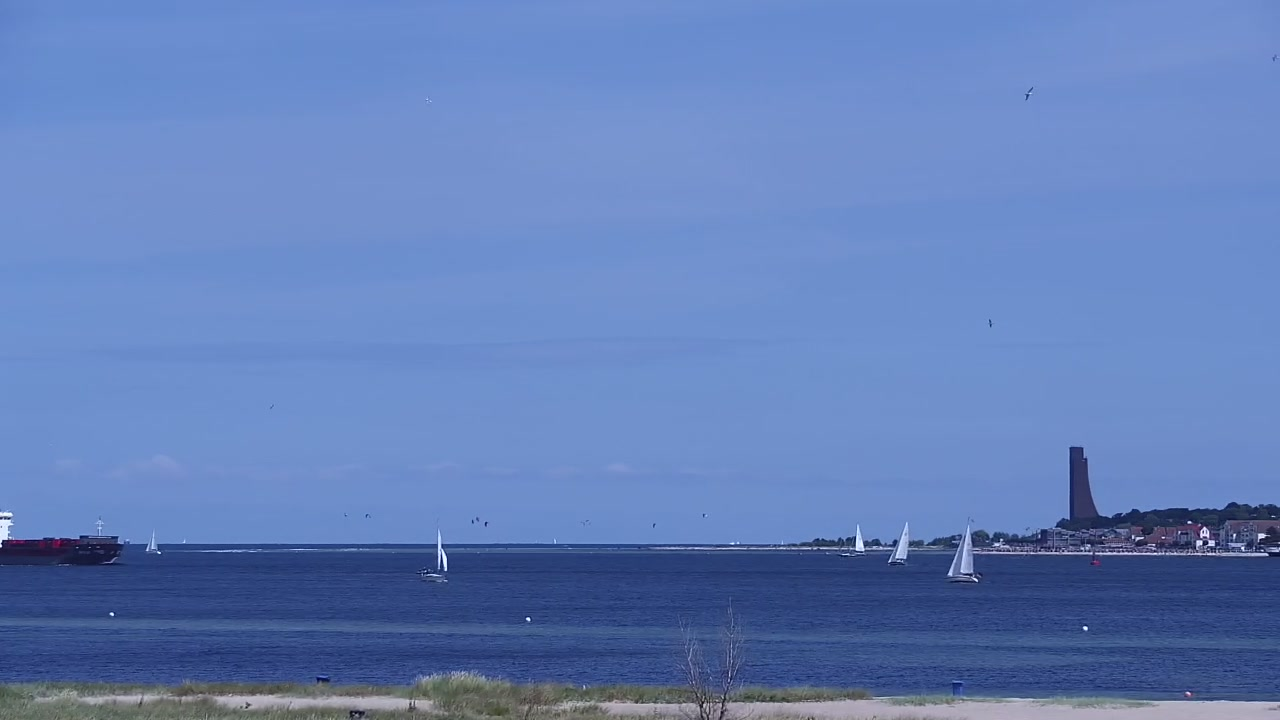sea: (1, 509, 125, 565), (944, 515, 982, 583), (418, 527, 448, 584), (886, 520, 910, 566), (144, 528, 162, 555), (852, 523, 866, 557), (123, 538, 131, 544), (182, 538, 187, 544), (553, 537, 557, 544)
